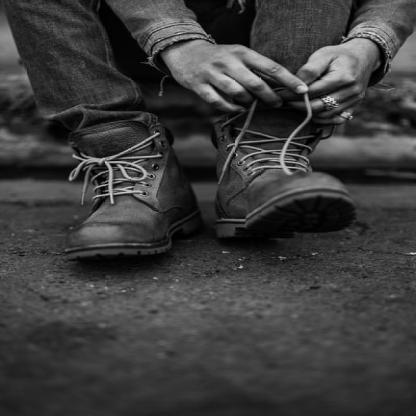ankle: (167, 166, 173, 170), (236, 164, 240, 166)
heel: (218, 212, 224, 215), (193, 204, 197, 208)
left_foot: (213, 134, 356, 241)
pinky: (69, 235, 77, 241), (332, 182, 339, 186)
right_foot: (64, 148, 201, 255)
toe: (261, 190, 267, 193), (124, 236, 129, 239)
